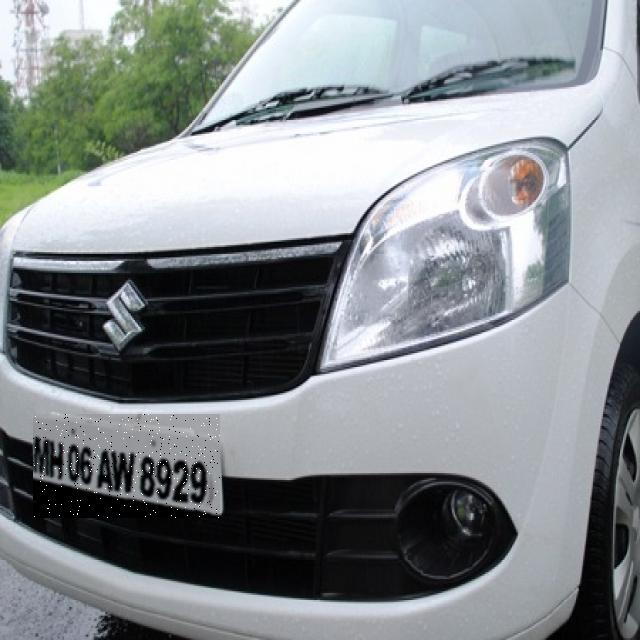Plate: (34, 415, 221, 519)
